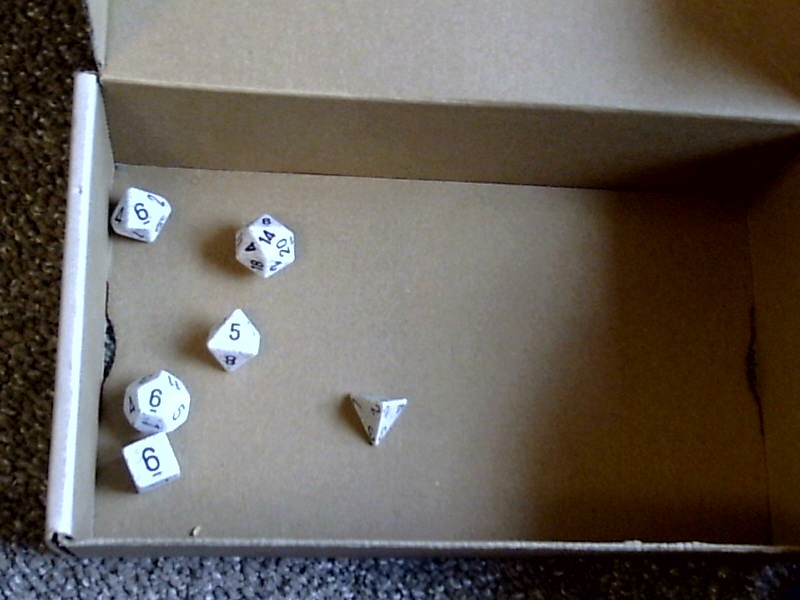d10 6: (105, 179, 177, 250)
d12 6: (119, 365, 194, 436)
d20 14: (224, 208, 299, 284)
d4 2: (344, 386, 415, 454)
d6 6: (120, 431, 188, 494)
d8 5: (201, 306, 263, 374)
